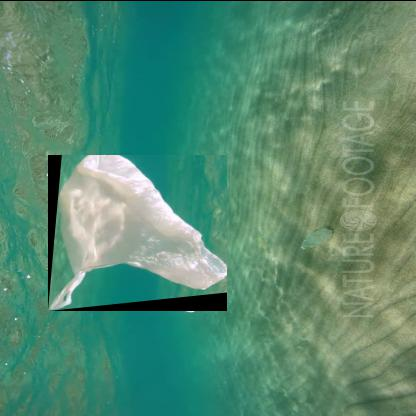plastic-bag: (48, 153, 228, 310)
